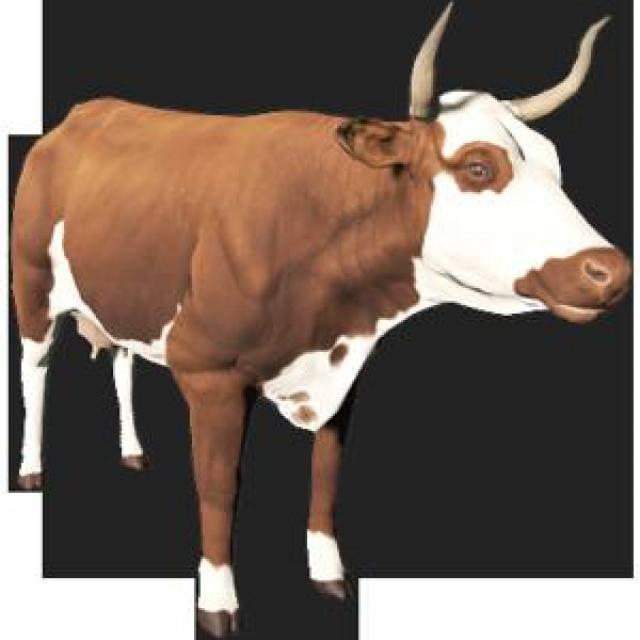cow: (12, 4, 631, 636)
